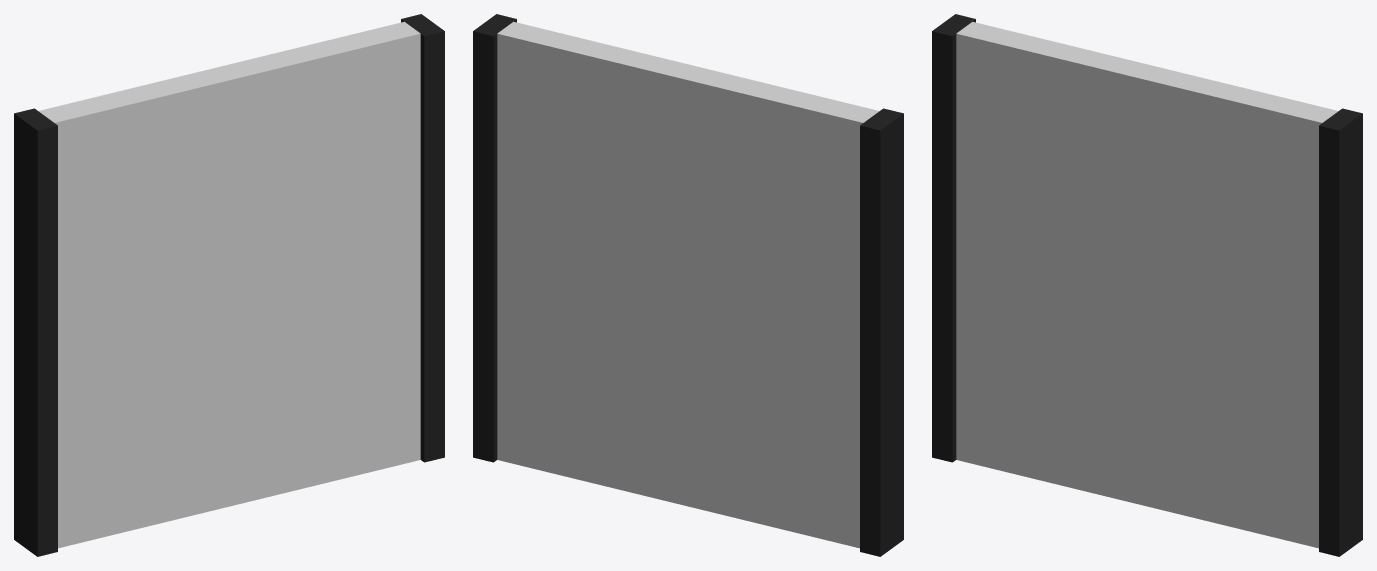
The model's file is Boss-Room-Wall.fbx.
3 renders of one model, left to right at view 1: azimuth 30°, elevation 25°; view 2: azimuth 150°, elevation 25°; view 3: azimuth 330°, elevation 25°, orthographic.
Parts seen in each view (by area): view 1: Office-Wall-1.754; view 2: Office-Wall-1.754; view 3: Office-Wall-1.754.
Part boxes in pixels (left/top/right/bottom): Office-Wall-1.754: left=14, top=14, right=444, bottom=556; Office-Wall-1.754: left=473, top=14, right=903, bottom=556; Office-Wall-1.754: left=932, top=14, right=1362, bottom=556.
Bounding box in the file's own units: 2 × 2 × 0.2.
